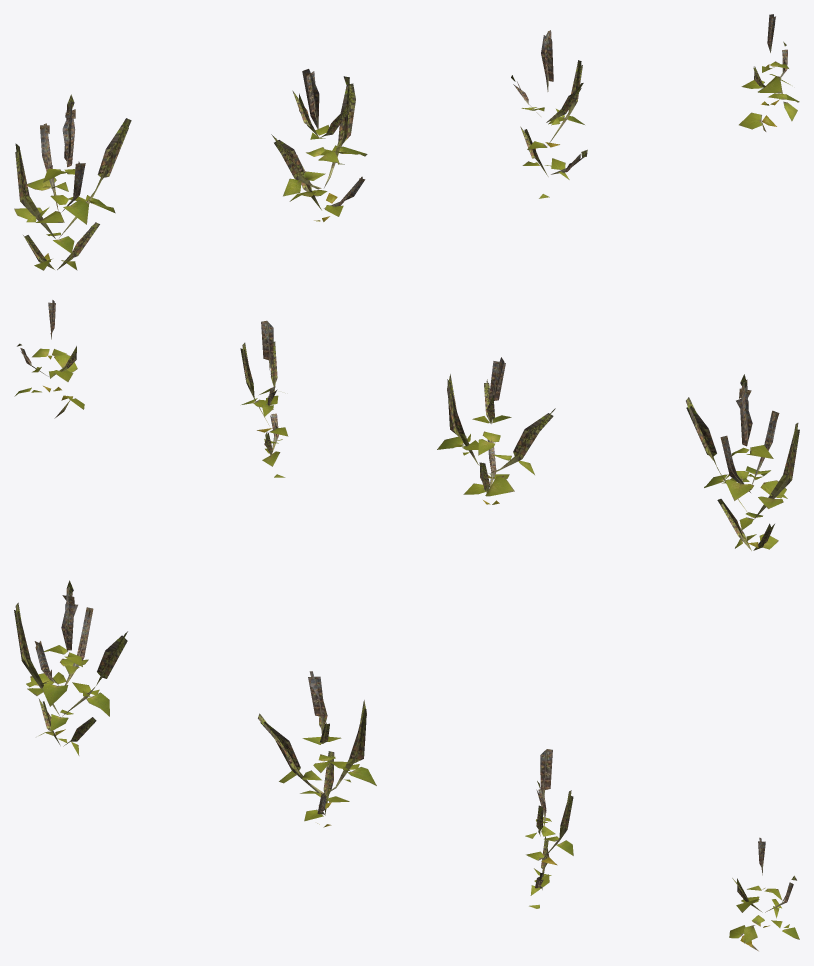
File: shrub_03.glb
3 renders of one model, top to bottom at view 1: azimuth 30°, elevation 25°; view 2: azimuth 150°, elevation 25°; view 3: azimuth 330°, elevation 25°, orthographic. The views are drawn at different scales.
Visible parts, largest first — view 1: shrub_03_a; view 2: shrub_03_a; view 3: shrub_03_a.
Boxes of the visible parts, x1,y1,x2,y2 form: shrub_03_a: (14,14,799,270); shrub_03_a: (14,300,799,550); shrub_03_a: (14,580,799,951).
Size of the model in its own units: 1.36 by 0.3627 by 0.1512.
1 material, 1 textured.
